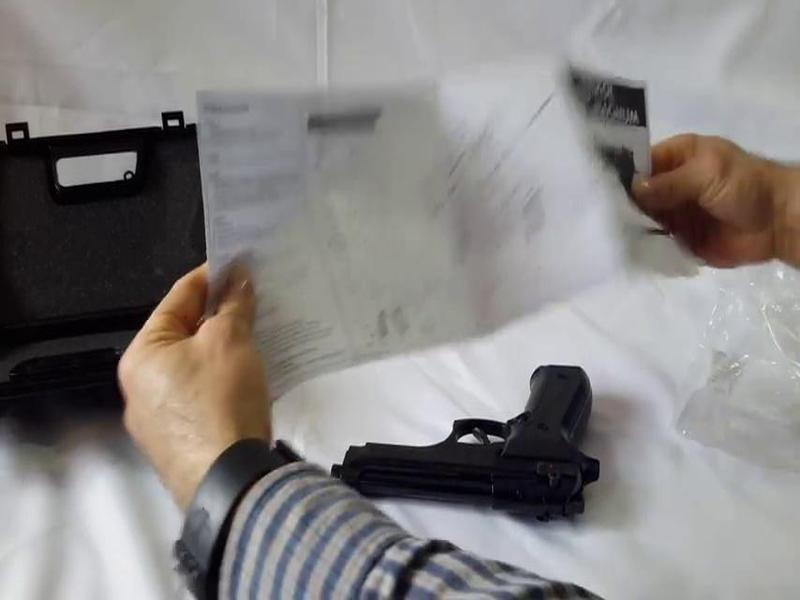Pistola: (317, 319, 610, 527)
